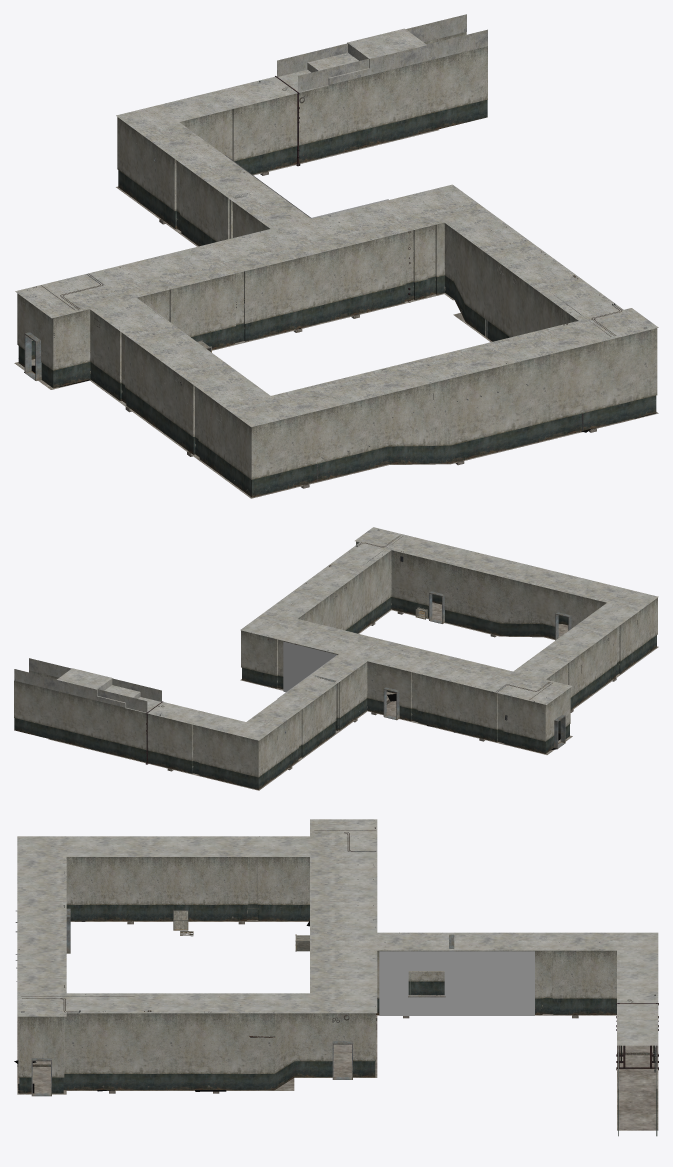
3 views of the same model, one above another, from view 1: azimuth 30°, elevation 25°; view 2: azimuth 150°, elevation 25°; view 3: azimuth 270°, elevation 25° (orthographic). The views are drawn at different scales.
Parts seen in each view (by area): view 1: LOD_1_Group_0_Sub_22__st3_policeUndergroundWall01, LOD_1_Group_0_Sub_1__st3_policeUndergroundCeiling01, LOD_1_Group_0_Sub_3__st3_policeUndergroundFloor03, LOD_1_Group_0_Sub_2__st3_policeUndergroundDoor01; view 2: LOD_1_Group_0_Sub_22__st3_policeUndergroundWall01, LOD_1_Group_0_Sub_1__st3_policeUndergroundCeiling01, LOD_1_Group_0_Sub_3__st3_policeUndergroundFloor03, LOD_1_Group_0_Sub_24__LightWall, LOD_1_Group_0_Sub_2__st3_policeUndergroundDoor01; view 3: LOD_1_Group_0_Sub_22__st3_policeUndergroundWall01, LOD_1_Group_0_Sub_1__st3_policeUndergroundCeiling01, LOD_1_Group_0_Sub_24__LightWall, LOD_1_Group_0_Sub_3__st3_policeUndergroundFloor03, LOD_1_Group_0_Sub_2__st3_policeUndergroundDoor01, LOD_1_Group_0_Sub_8__st2_police1fLeftPipeline01, LOD_1_Group_0_Sub_21__st2_police1fLeftWall02.
Part boxes in pixels (x1,y1,x2,y2): LOD_1_Group_0_Sub_22__st3_policeUndergroundWall01: (17,32,657,497); LOD_1_Group_0_Sub_1__st3_policeUndergroundCeiling01: (15,14,658,427); LOD_1_Group_0_Sub_3__st3_policeUndergroundFloor03: (14,129,658,498); LOD_1_Group_0_Sub_2__st3_policeUndergroundDoor01: (24,191,487,380); LOD_1_Group_0_Sub_22__st3_policeUndergroundWall01: (14,541,657,789); LOD_1_Group_0_Sub_1__st3_policeUndergroundCeiling01: (14,527,658,740); LOD_1_Group_0_Sub_3__st3_policeUndergroundFloor03: (48,602,658,790); LOD_1_Group_0_Sub_24__LightWall: (277,641,336,698); LOD_1_Group_0_Sub_2__st3_policeUndergroundDoor01: (315,591,571,748); LOD_1_Group_0_Sub_22__st3_policeUndergroundWall01: (18,857,657,1136); LOD_1_Group_0_Sub_1__st3_policeUndergroundCeiling01: (17,819,658,1088); LOD_1_Group_0_Sub_24__LightWall: (379,951,534,1015); LOD_1_Group_0_Sub_3__st3_policeUndergroundFloor03: (17,920,658,1130); LOD_1_Group_0_Sub_2__st3_policeUndergroundDoor01: (31,908,454,1096); LOD_1_Group_0_Sub_8__st2_police1fLeftPipeline01: (18,827,632,1090); LOD_1_Group_0_Sub_21__st2_police1fLeftWall02: (174,911,309,951).
Bounding box in the file's own units: 34.79 × 5.73 × 35.14.
